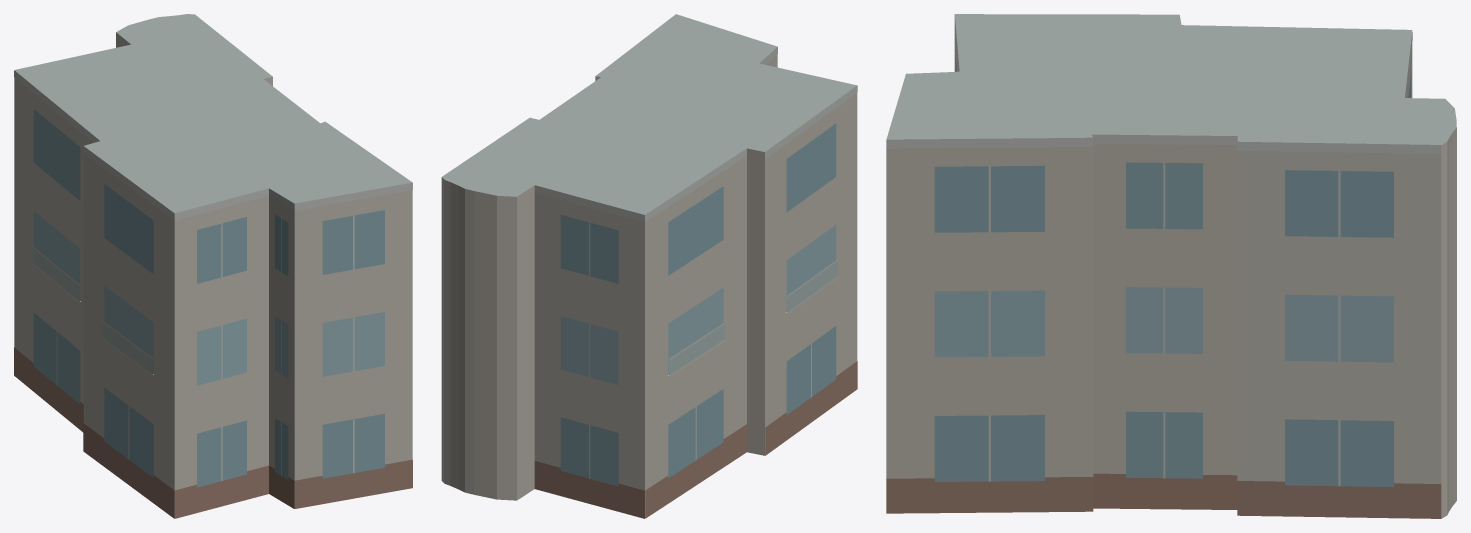
The model's file is survey-upis-32472508.glb.
3 views of the same model, side by side, from view 1: azimuth 30°, elevation 25°; view 2: azimuth 150°, elevation 25°; view 3: azimuth 270°, elevation 25° (orthographic). The views are drawn at different scales.
Visible parts, largest first — view 1: survey-upis-32472508.tmp; view 2: survey-upis-32472508.tmp; view 3: survey-upis-32472508.tmp.
Part boxes in pixels (x1,y1,x2,y2): survey-upis-32472508.tmp: [14, 14, 412, 518]; survey-upis-32472508.tmp: [441, 14, 857, 518]; survey-upis-32472508.tmp: [886, 14, 1456, 518].
Size of the model in its own units: 7.62 by 10.1 by 13.97.
